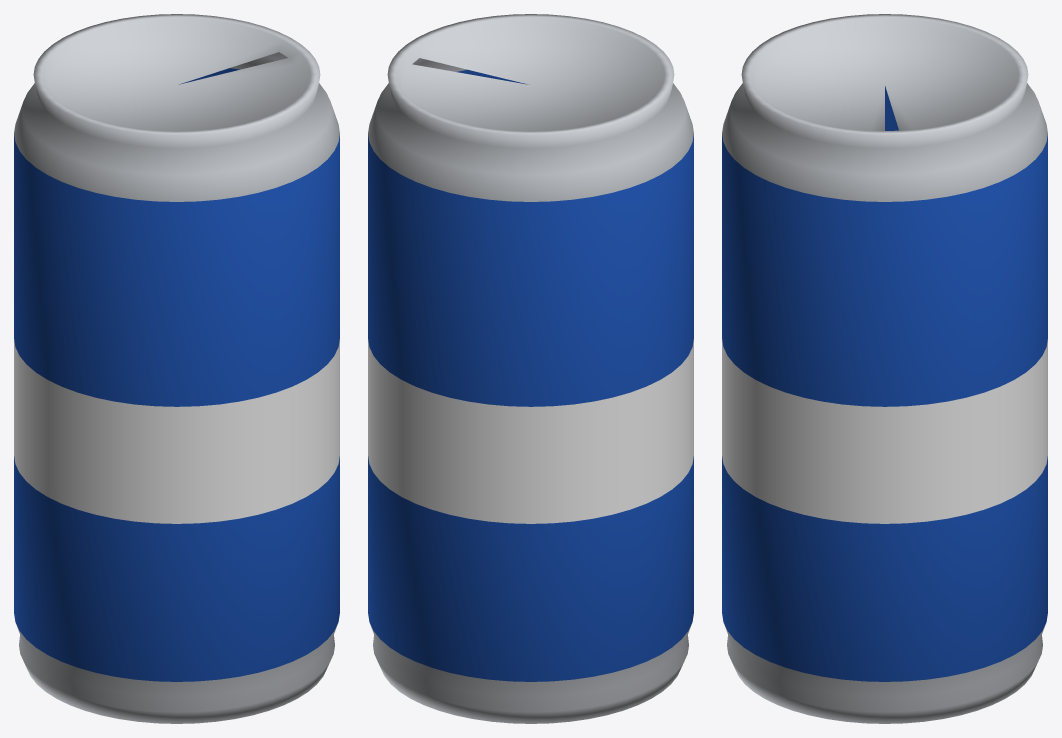
The model's file is item-rtd_coffee_175.glb.
3 renders of one model, left to right at view 1: azimuth 30°, elevation 25°; view 2: azimuth 150°, elevation 25°; view 3: azimuth 270°, elevation 25°, orthographic.
Parts seen in each view (by area): view 1: body; view 2: body; view 3: body.
Boxes of the visible parts, x1=… form: body: x1=14, y1=14, x2=339, y2=723; body: x1=368, y1=14, x2=693, y2=723; body: x1=722, y1=14, x2=1047, y2=723.
Bounding box in the file's own units: 0.053 × 0.105 × 0.053.
